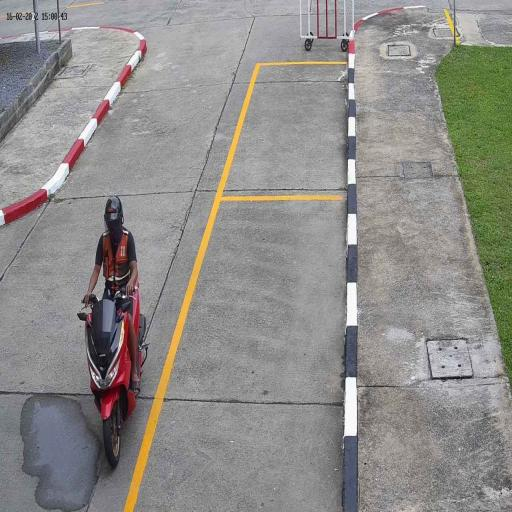motorcycle: (83, 291, 148, 471)
